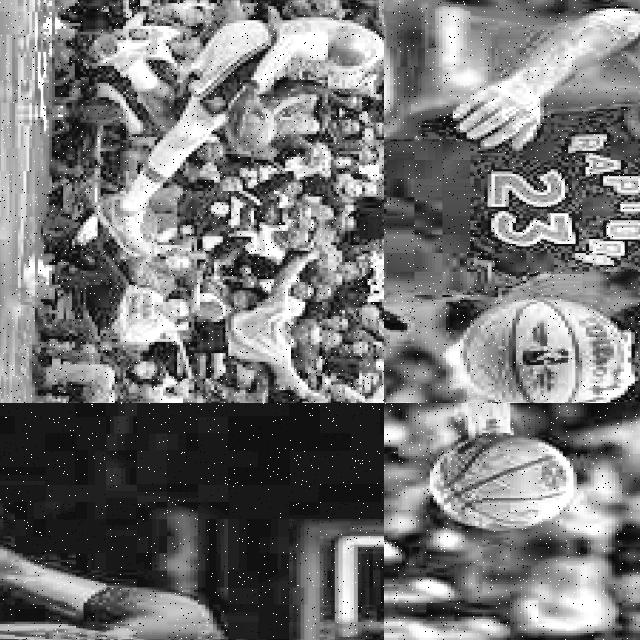Basketball: (425, 438, 572, 531), (226, 89, 273, 154)
